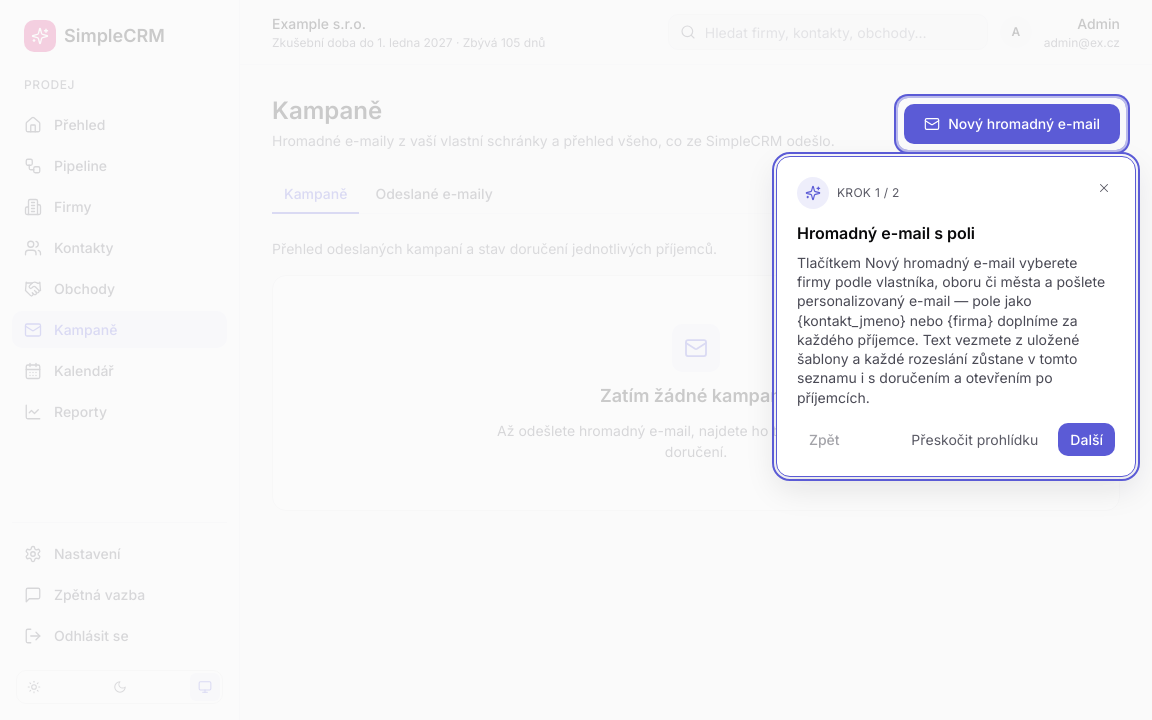
Bulk email › preselects every contact address; header and row checkboxes toggle whole sets
The image size is (1152, 720).
Step 1. Click the button with test id "campaigns-new-button" → click(1012, 124), box [904,104,1120,144]
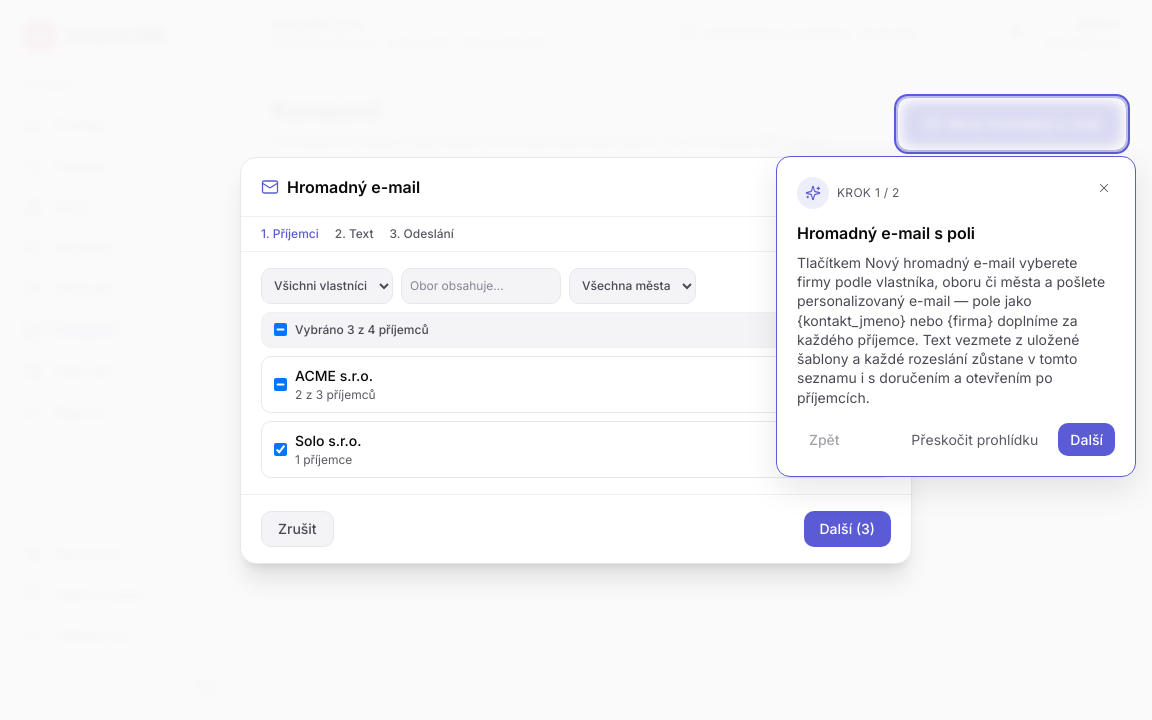
Now the text "ACME s.r.o." is shown, box [295,364,376,386]
Now the text with test id "bulk-email-recipients-total" reads "Vybráno 3 z 4 příjemců", box [295,322,429,336]
Now the text "2 z 3 příjemců" is shown, box [295,386,376,404]
Step 2. Click the checkbox with test id "bulk-email-select-all" → click(280, 330), box [274,323,287,336]
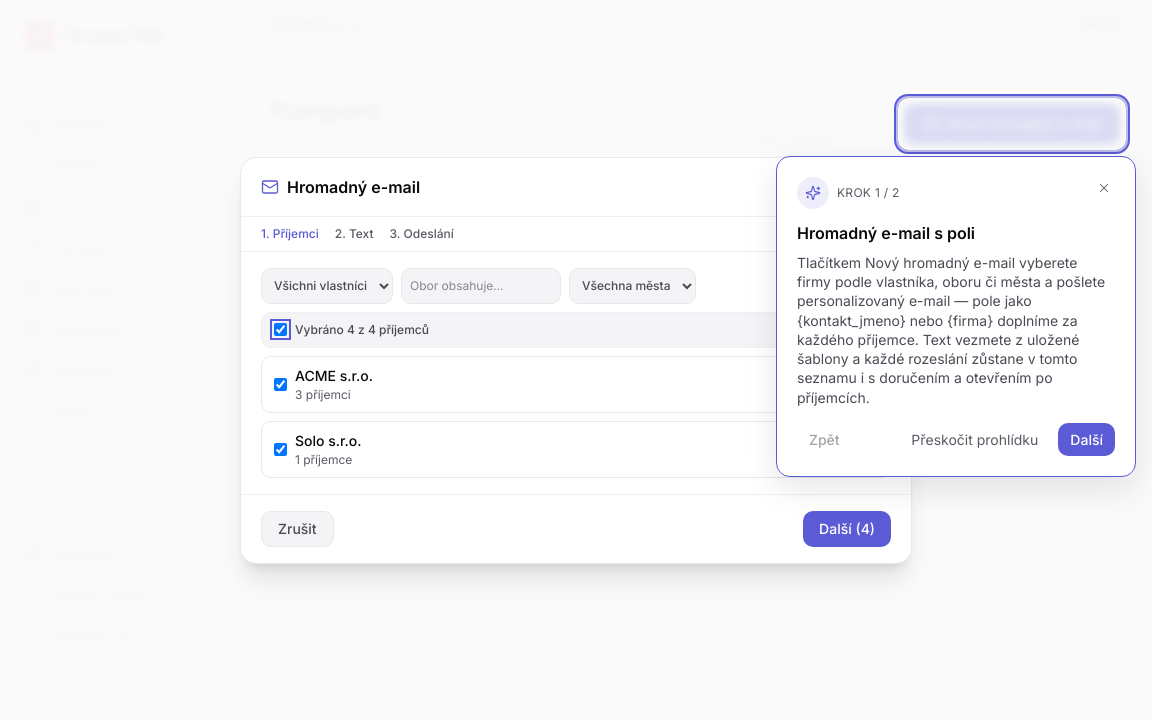
Now the checkbox with test id "bulk-email-select-all" is checked
Now the button "Další (4)" is enabled, box [803,510,891,546]
Step 3. Click the checkbox with test id "bulk-email-select-all" → click(280, 330), box [274,323,287,336]
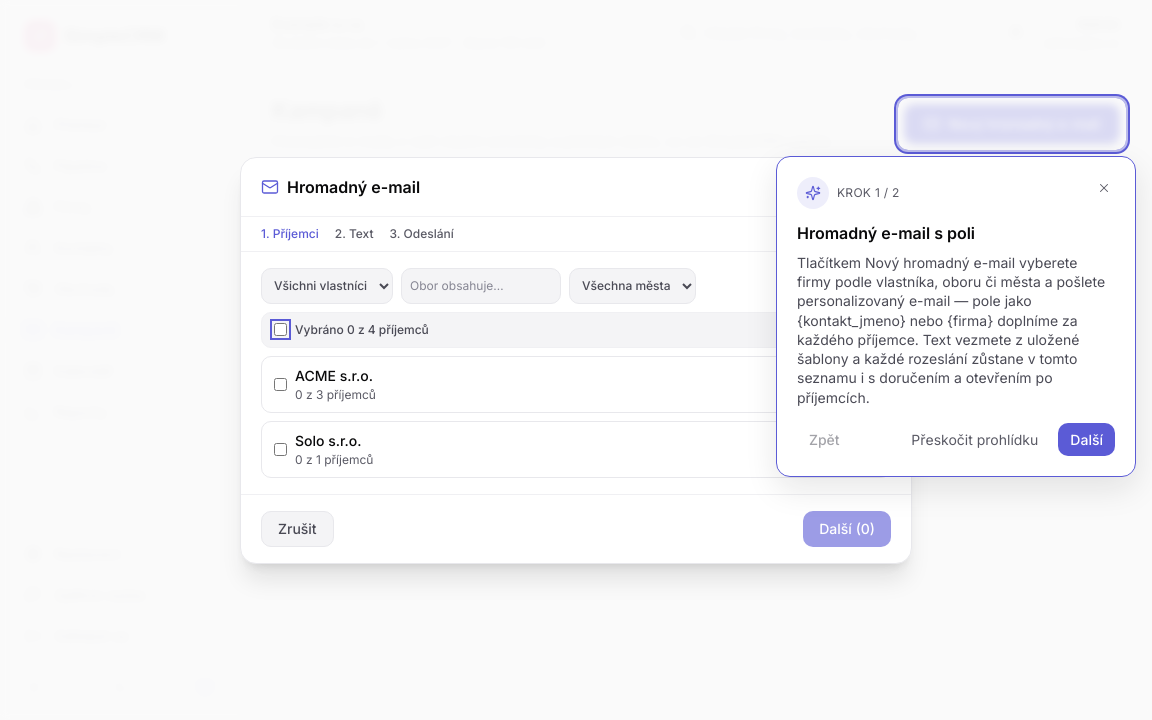
Now the button "Další (0)" is disabled, box [803,510,891,546]
// A row checkbox ticks every address of that company.
Step 4. Click the checkbox named "Vybrat příjemce firmy ACME s.r.o." → click(280, 384), box [274,378,287,390]
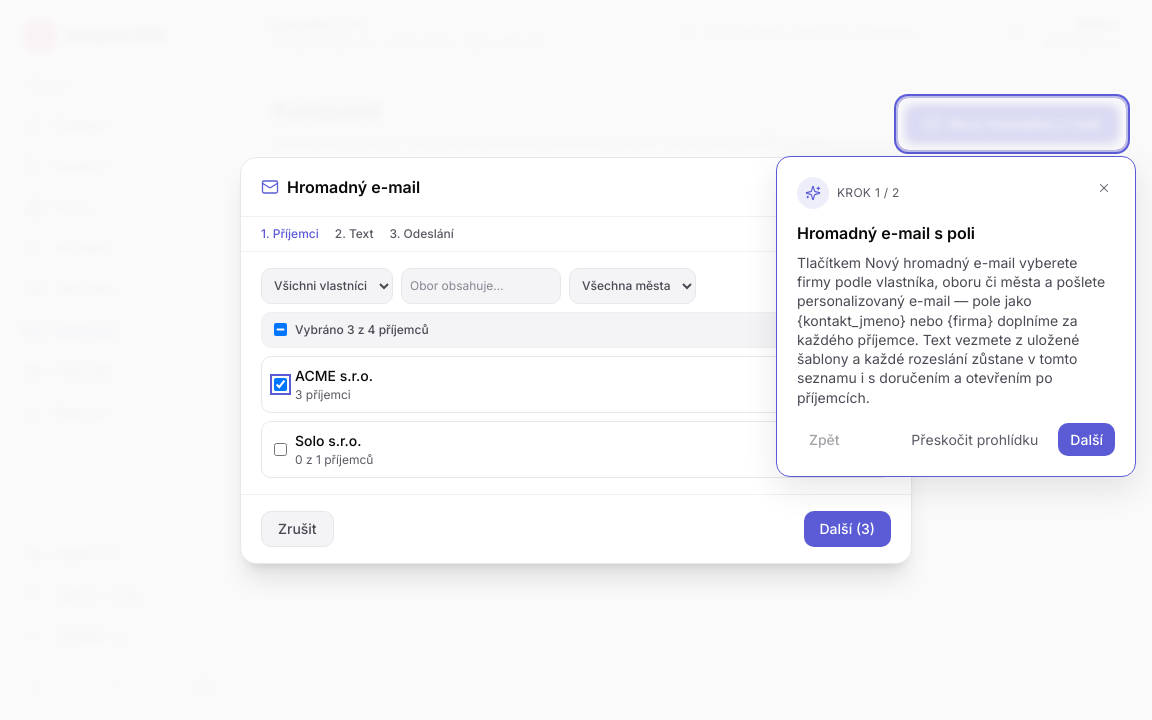
Now the button "Další (3)" is enabled, box [804,510,891,546]
Now the text "3 příjemci" is shown, box [295,386,351,402]
